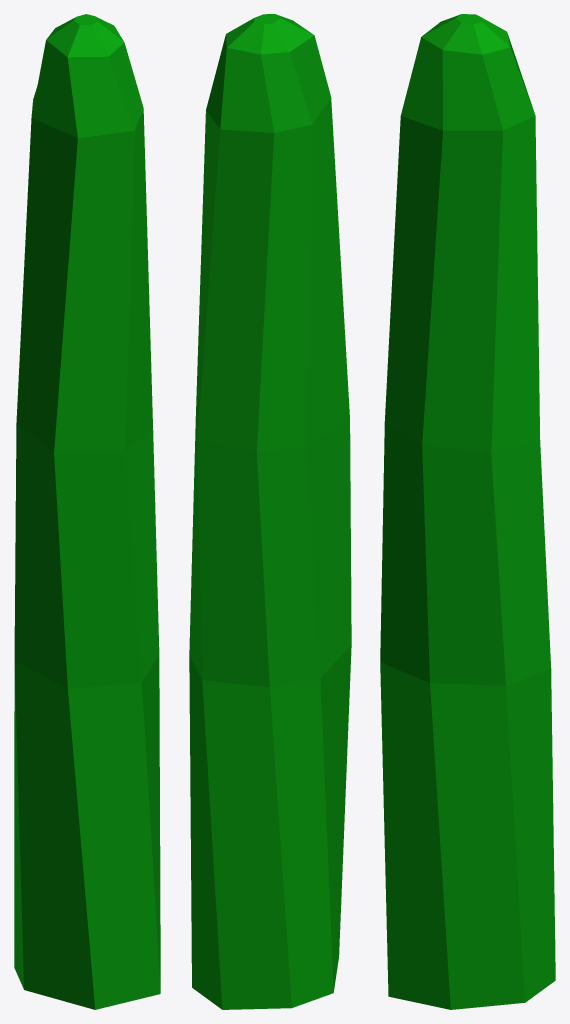
The model's file is Cactus.fbx.
3 views of the same model, side by side, from view 1: azimuth 30°, elevation 25°; view 2: azimuth 150°, elevation 25°; view 3: azimuth 270°, elevation 25° (orthographic).
Parts seen in each view (by area): view 1: Cactus4; view 2: Cactus4; view 3: Cactus4.
Boxes of the visible parts, x1,y1,x2,y2 form: Cactus4: [14, 14, 160, 1009]; Cactus4: [189, 14, 351, 1009]; Cactus4: [380, 14, 555, 1009].
Size of the model in its own units: 65.42 by 474 by 78.54.
